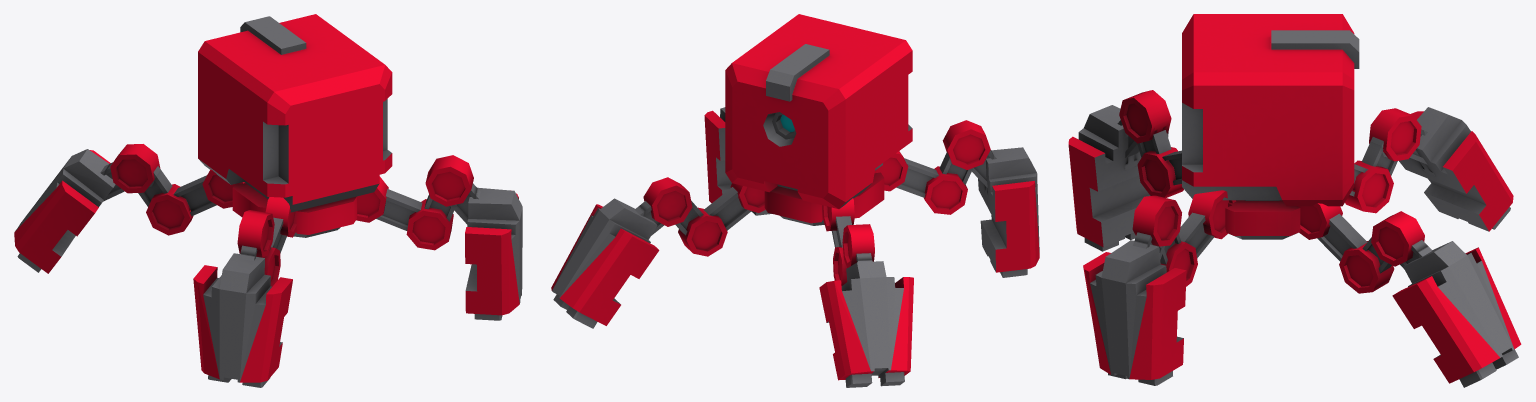
Rendered from Monster1_Attack18.obj.
3 renders of one model, left to right at view 1: azimuth 30°, elevation 25°; view 2: azimuth 150°, elevation 25°; view 3: azimuth 270°, elevation 25°, orthographic. The views are drawn at different scales.
Visible parts, largest first — view 1: Box006, Object021, Object017, Object025, Object020, Object027, Object028, Object018, Object019, Object026, Object024, Object022 (+1 smaller); view 2: Box006, Object025, Object013, Object021, Object024, Object016, Object017, Object023, Object015, Object022, Object014, Object028 (+2 smaller); view 3: Box006, Object017, Object013, Object021, Object025, Object016, Object027, Object024, Object020, Object014, Object018, Object028 (+3 smaller).
Boxes of the visible parts, left/top/right/bottom form: Box006: left=198, top=14, right=392, bottom=237; Object021: left=193, top=253, right=292, bottom=387; Object017: left=465, top=187, right=522, bottom=320; Object025: left=14, top=149, right=115, bottom=273; Object020: left=425, top=155, right=480, bottom=224; Object027: left=138, top=166, right=193, bottom=235; Object028: left=100, top=144, right=160, bottom=201; Object018: left=356, top=176, right=422, bottom=230; Object019: left=406, top=194, right=456, bottom=250; Object026: left=173, top=169, right=244, bottom=216; Object024: left=237, top=210, right=274, bottom=260; Object022: left=265, top=197, right=296, bottom=253; Box006: left=725, top=14, right=912, bottom=225; Object025: left=819, top=261, right=913, bottom=387; Object013: left=551, top=198, right=659, bottom=328; Object021: left=978, top=147, right=1039, bottom=277; Object024: left=942, top=120, right=996, bottom=187; Object016: left=634, top=177, right=692, bottom=235; Object017: left=704, top=107, right=771, bottom=215; Object023: left=924, top=152, right=973, bottom=214; Object015: left=675, top=200, right=727, bottom=256; Object022: left=874, top=151, right=938, bottom=197; Object014: left=704, top=183, right=765, bottom=230; Object028: left=842, top=224, right=874, bottom=267; Box006: left=1182, top=14, right=1359, bottom=239; Object017: left=1083, top=240, right=1186, bottom=385; Object013: left=1392, top=241, right=1521, bottom=387; Object021: left=1068, top=105, right=1168, bottom=251; Object025: left=1399, top=107, right=1513, bottom=231; Object016: left=1371, top=211, right=1432, bottom=269; Object027: left=1345, top=137, right=1397, bottom=213; Object024: left=1117, top=90, right=1171, bottom=157; Object020: left=1132, top=195, right=1181, bottom=259; Object014: left=1297, top=203, right=1367, bottom=261; Object018: left=1178, top=190, right=1236, bottom=258; Object028: left=1369, top=108, right=1427, bottom=164.
Bounding box in the file's own units: 154 × 102 × 155.
